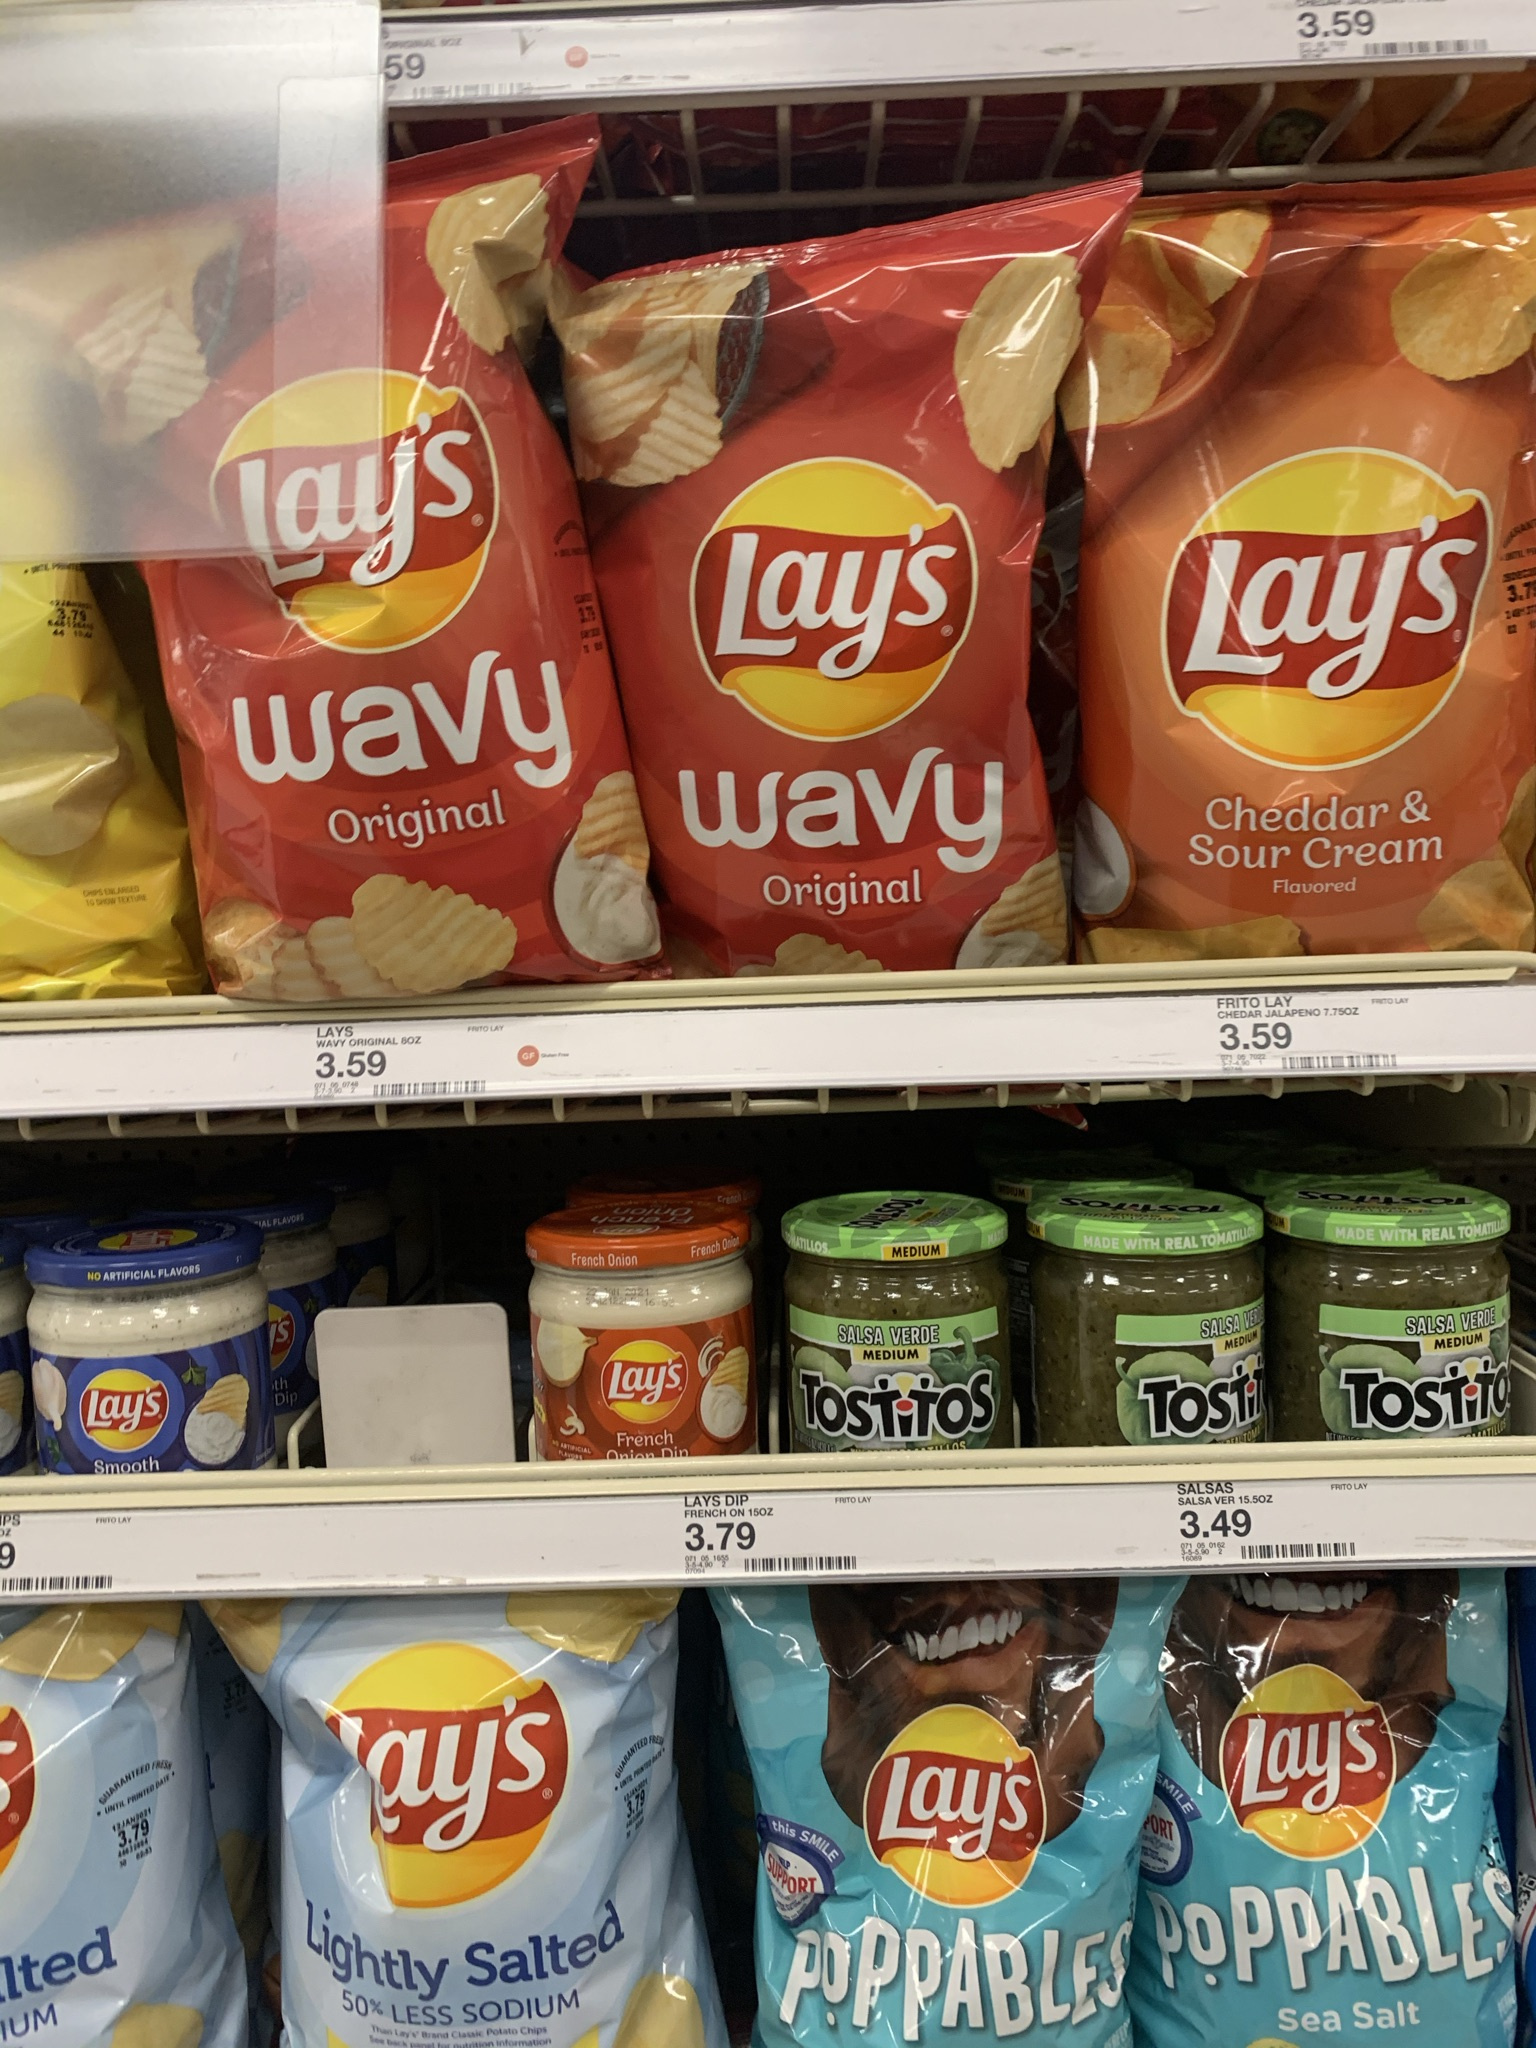cheetos: (132, 264, 608, 929)
lays: (144, 276, 642, 947), (1108, 221, 1530, 930), (658, 279, 1054, 985), (287, 1621, 682, 2048), (1179, 1601, 1536, 2048), (779, 1616, 1125, 2048)
